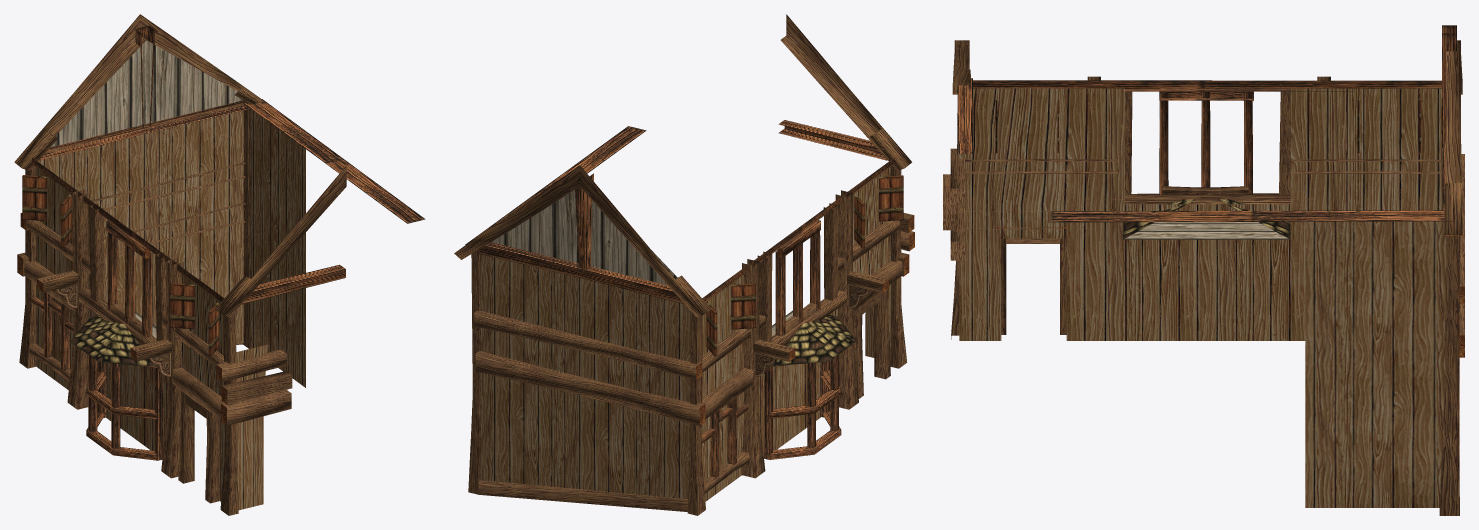
The model's file is LAKETOWN_EXTERIOR_PS_LT_GRANDMA_63534__GX.fbx.
3 views of the same model, side by side, from view 1: azimuth 30°, elevation 25°; view 2: azimuth 150°, elevation 25°; view 3: azimuth 270°, elevation 25° (orthographic). The views are drawn at different scales.
Parts seen in each view (by area): view 1: LAKETOWN_EXTERIOR_PS_LT_GRANDMA_63534__GX; view 2: LAKETOWN_EXTERIOR_PS_LT_GRANDMA_63534__GX; view 3: LAKETOWN_EXTERIOR_PS_LT_GRANDMA_63534__GX.
Boxes of the visible parts, <box> form: LAKETOWN_EXTERIOR_PS_LT_GRANDMA_63534__GX: <box>14,14,425,515</box>; LAKETOWN_EXTERIOR_PS_LT_GRANDMA_63534__GX: <box>454,14,914,515</box>; LAKETOWN_EXTERIOR_PS_LT_GRANDMA_63534__GX: <box>943,25,1464,515</box>.
Size of the model in its own units: 85317 by 101709 by 110480.
Materials: 10 (10 with a texture image).
